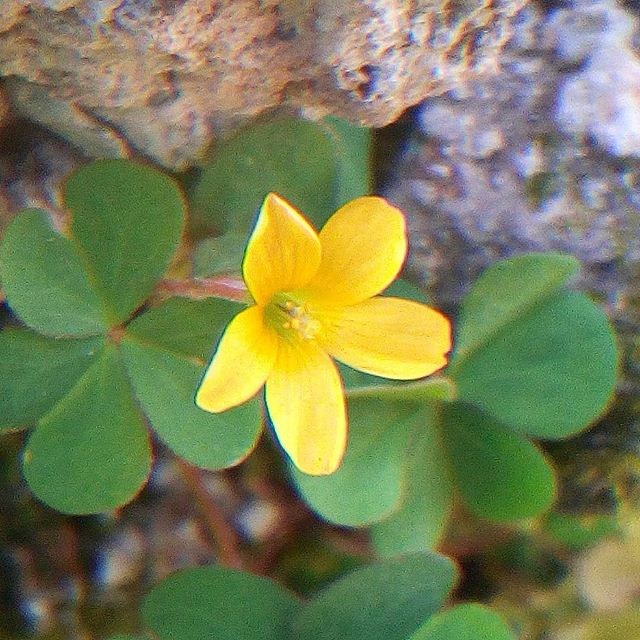oxalis: (13, 177, 241, 513), (414, 262, 599, 533), (112, 541, 499, 640)
